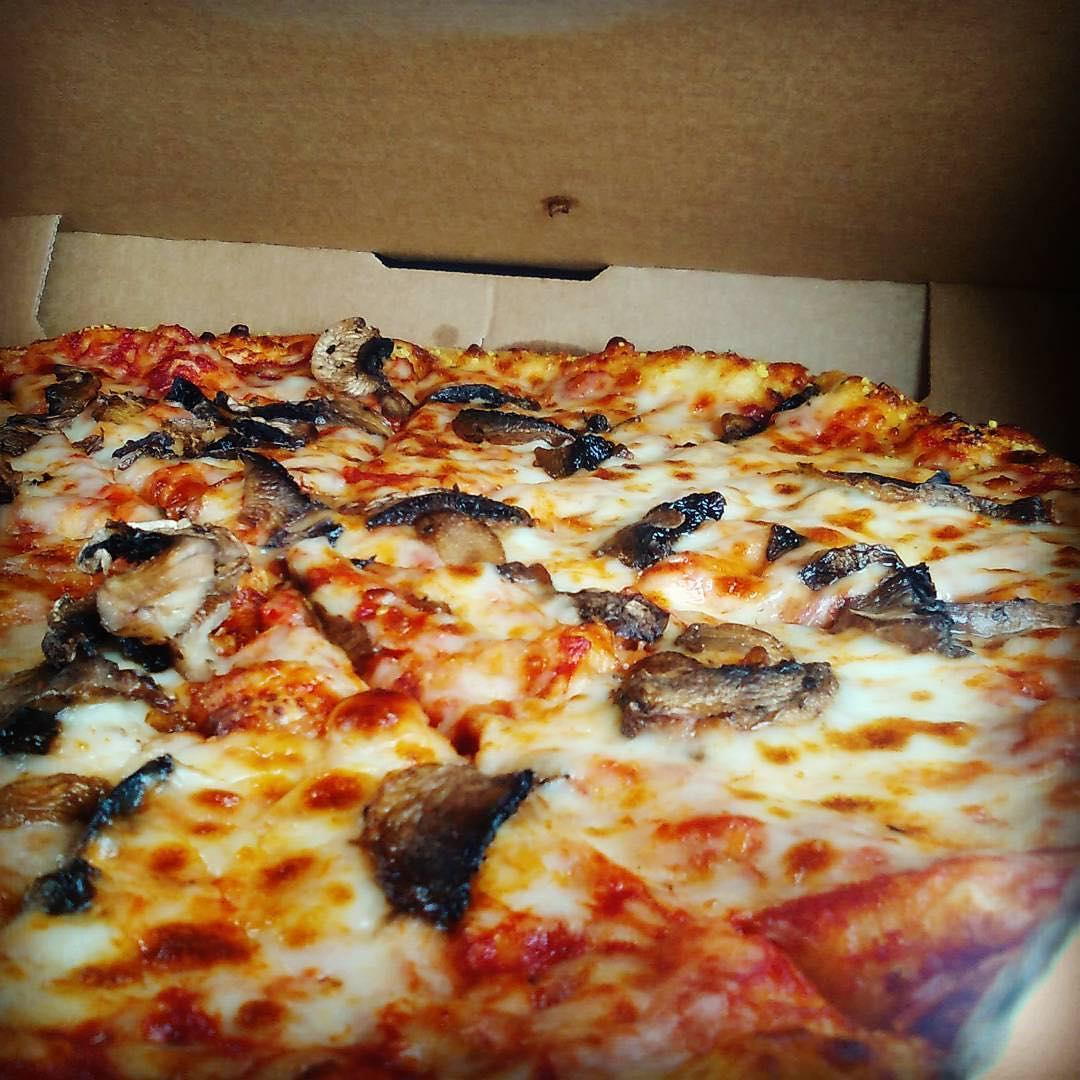Mushroom: (7, 761, 177, 931), (369, 751, 517, 918), (803, 455, 1049, 534), (333, 481, 553, 564), (425, 377, 609, 472), (617, 653, 824, 734), (65, 523, 208, 633), (797, 543, 957, 641), (123, 383, 321, 461), (507, 565, 666, 645), (221, 445, 344, 548), (924, 584, 1080, 665), (0, 657, 153, 736), (297, 313, 414, 413), (605, 481, 721, 561), (0, 361, 93, 453), (670, 606, 792, 667)
Pizza: (5, 313, 1080, 1080)
